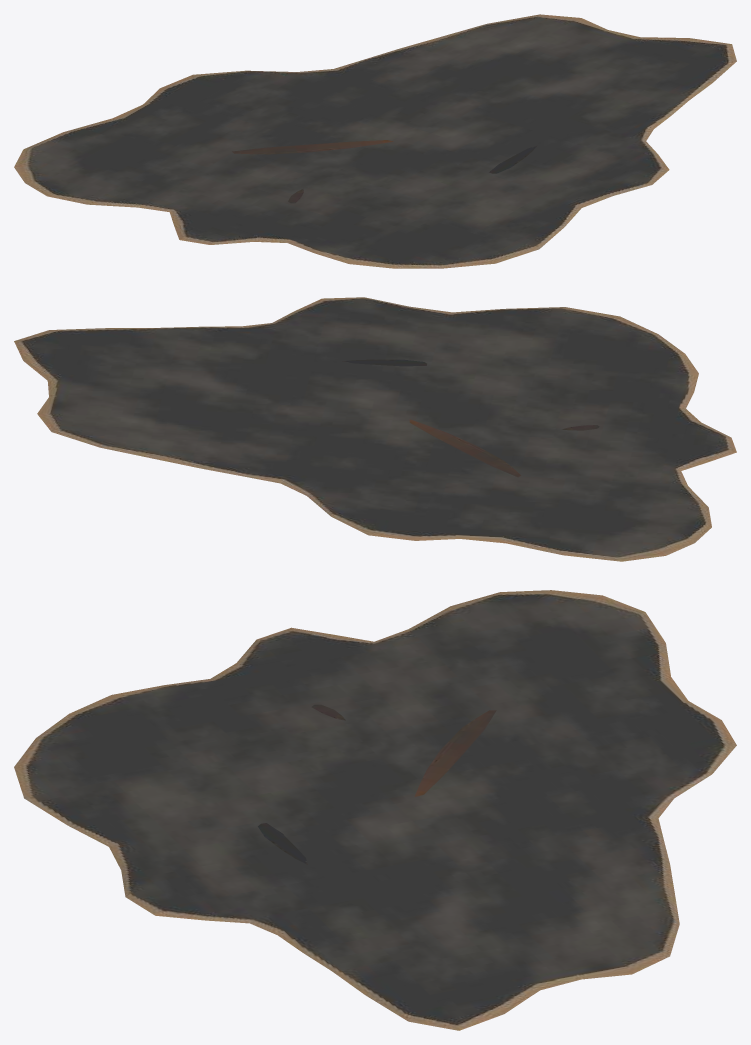
The model's file is D33_dark_puddle_flat_v1.glb.
3 views of the same model, one above another, from view 1: azimuth 30°, elevation 25°; view 2: azimuth 150°, elevation 25°; view 3: azimuth 270°, elevation 25° (orthographic). The views are drawn at different scales.
Parts seen in each view (by area): view 1: Dark_Puddle_Flat_0; view 2: Dark_Puddle_Flat_0; view 3: Dark_Puddle_Flat_0.
Boxes of the visible parts, x1=… form: Dark_Puddle_Flat_0: x1=14, y1=14, x2=736, y2=268; Dark_Puddle_Flat_0: x1=14, y1=297, x2=736, y2=561; Dark_Puddle_Flat_0: x1=14, y1=590, x2=736, y2=1030.
Bounding box in the file's own units: 1 × 0.00165 × 0.6932.
3 materials, 3 textured.
